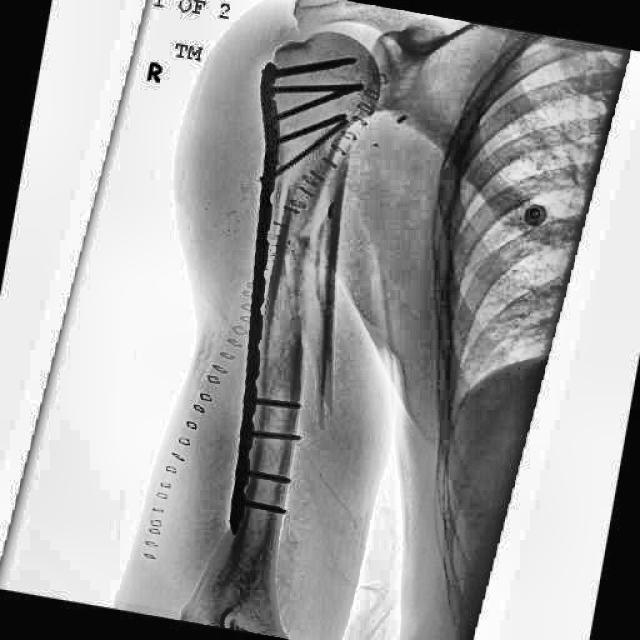humerus: (280, 287, 363, 457)
